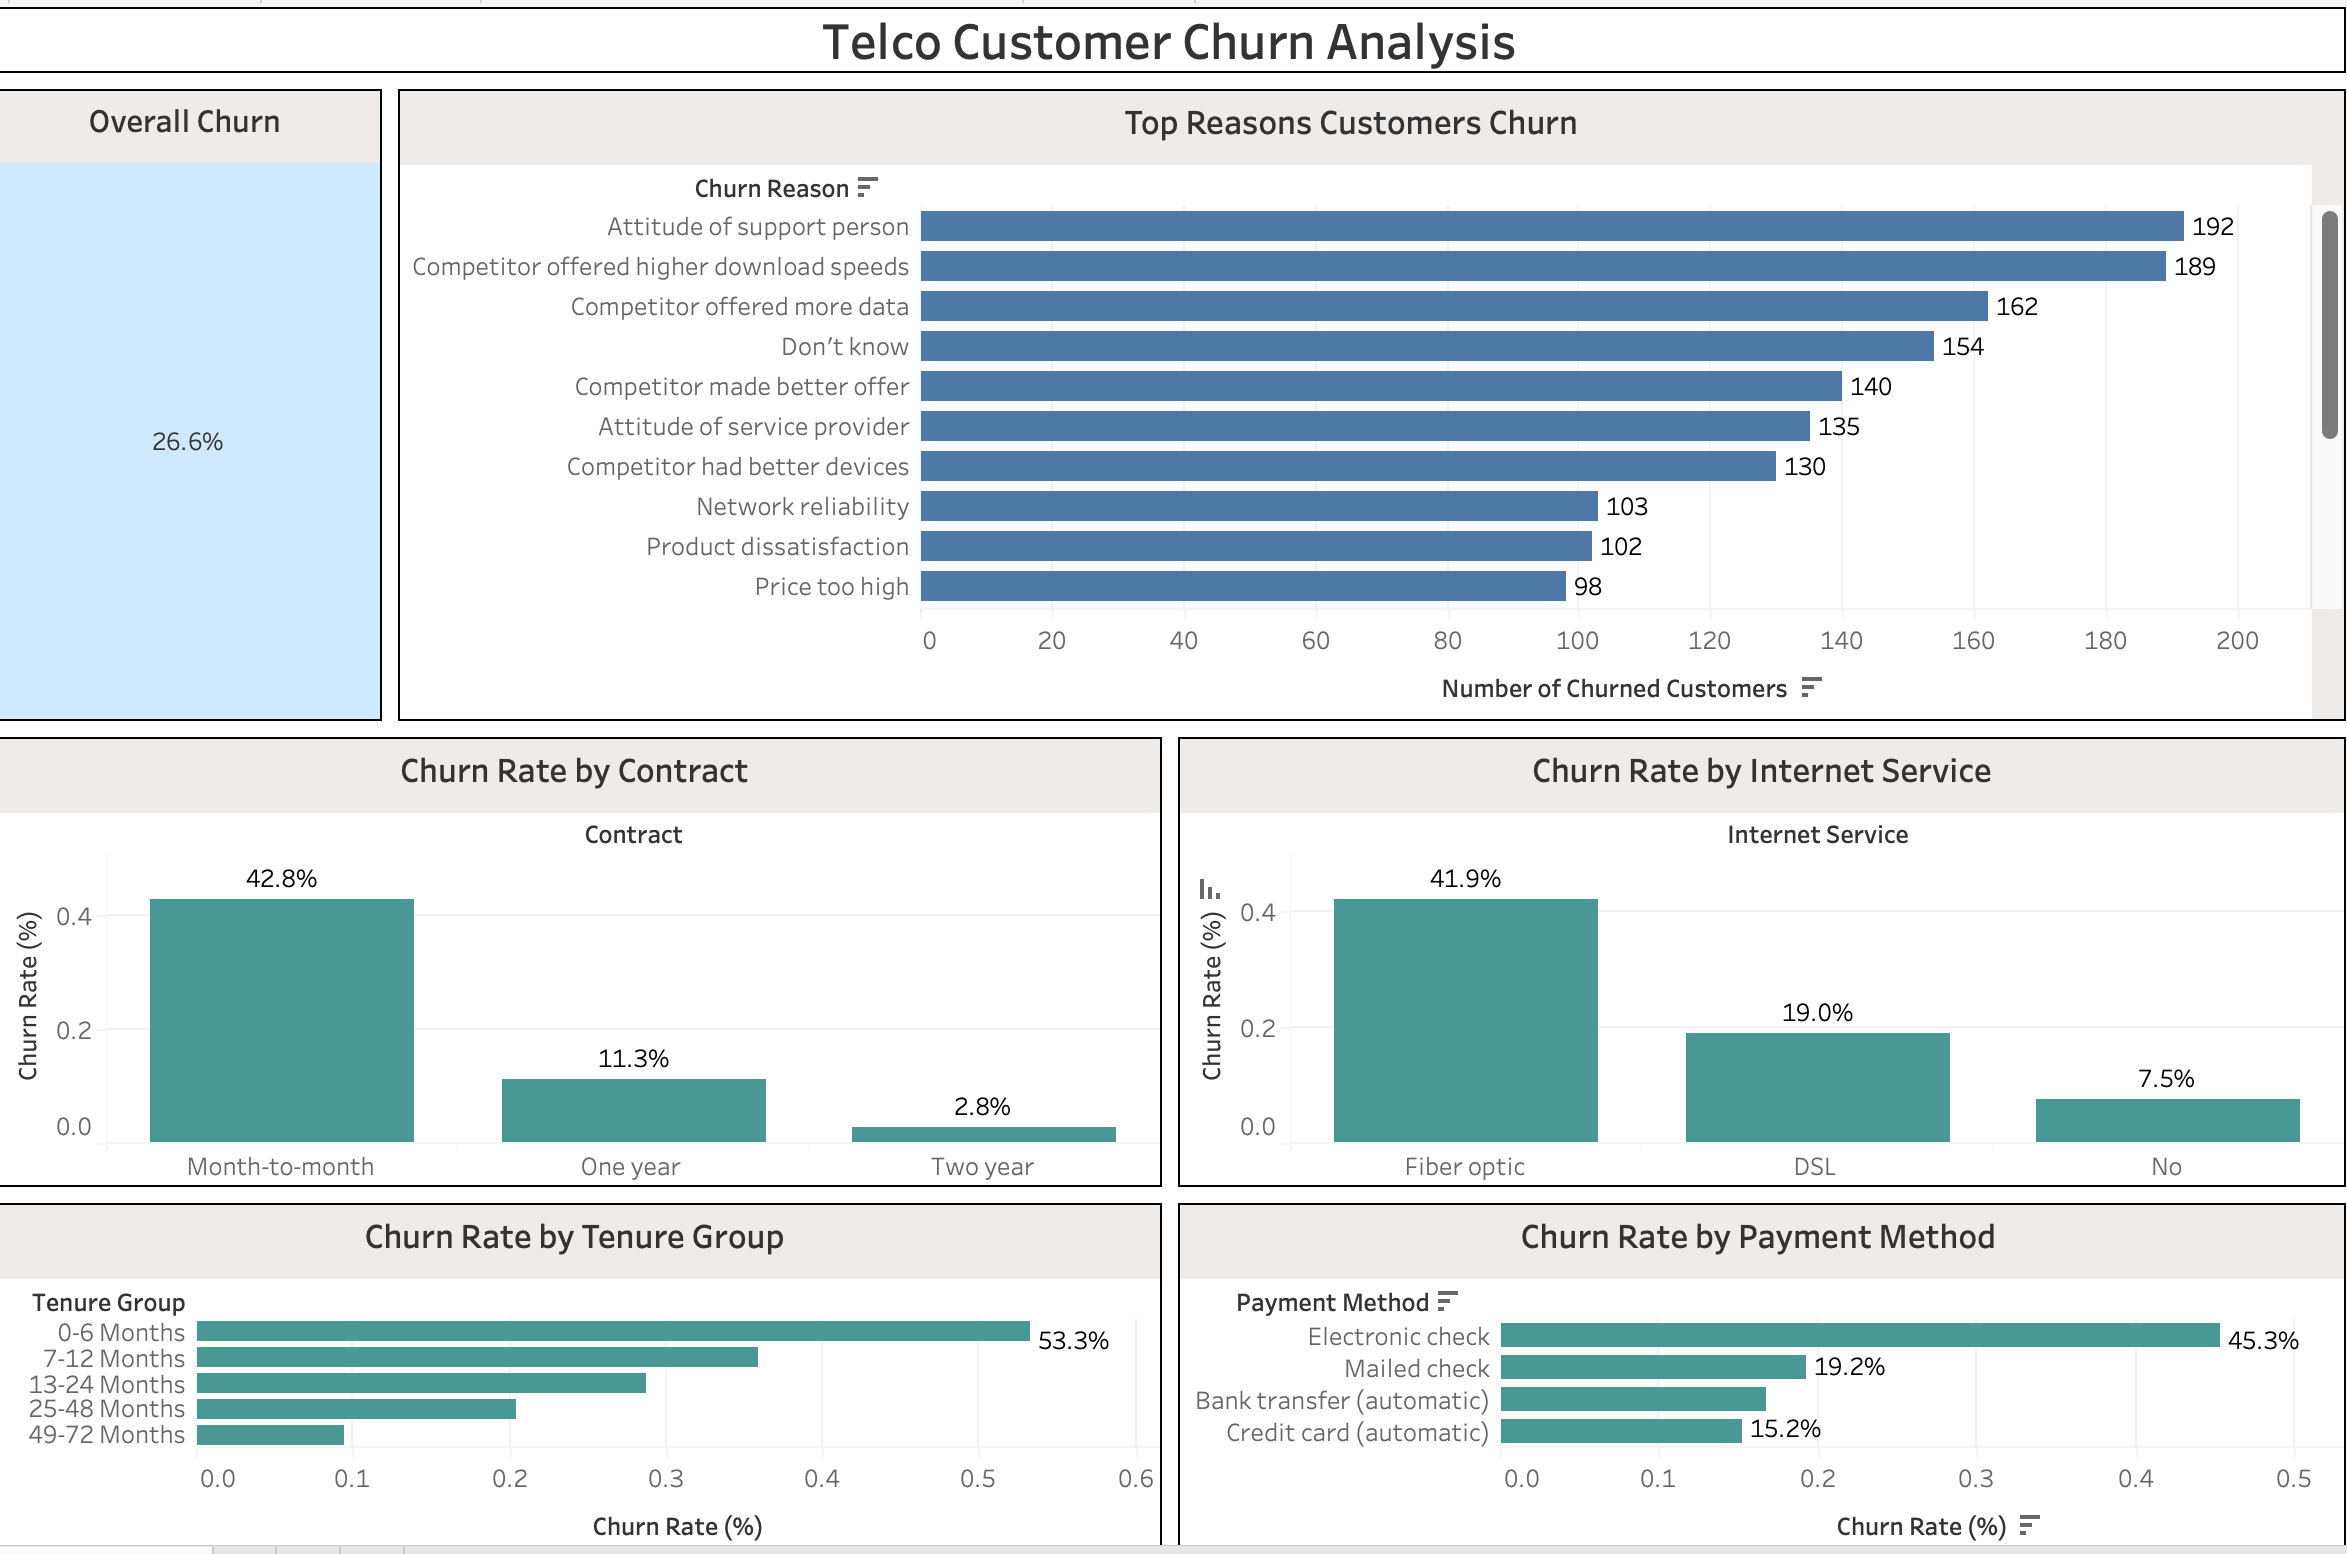

What the dashboard file says about the page in this screenshot:
{"tool":"tableau","page":{"name":"Telco Customer Churn Analysis","canvas":[1200,800],"ordinal":0},"visuals":[{"type":"title","box":[8,8,1184,41]},{"type":"worksheet","title":"Overall Churn Rate","mark":"Automatic","box":[8,49,202,324.1]},{"type":"worksheet","title":"Top Reasons Customers Churn","mark":"Bar","rows":["Churn Reason"],"cols":["Churn Value"],"box":[210,49,982,324.1]},{"type":"worksheet","title":"Churn Rate by Contract","mark":"Bar","rows":["Churn Value"],"cols":["Contract"],"box":[8,373.1,592,233.1]},{"type":"worksheet","title":"Churn Rate by Internet Service","mark":"Automatic","rows":["Churn Value"],"cols":["Internet Service"],"box":[600,373.1,592,233.1]},{"type":"worksheet","title":"Churn Rate by Tenure Group","mark":"Bar","rows":["Tenure Group"],"cols":["Churn Value"],"box":[8,606.2,592,185.8]},{"type":"worksheet","title":"Churn Rate by Payment Method","mark":"Automatic","rows":["Payment Method"],"cols":["Churn Value"],"box":[600,606.2,592,185.8]}]}

Visuals, with their boxes in screenshot pixels (x1, y1, x2, y2), scaled from the page's 1200x800 canvas onto the 2347x1554 screenshot:
title: pyautogui.locateOnScreen(16, 16, 2331, 95)
"Overall Churn Rate" worksheet: pyautogui.locateOnScreen(16, 95, 411, 725)
"Top Reasons Customers Churn" worksheet (Bar marks): pyautogui.locateOnScreen(411, 95, 2331, 725)
"Churn Rate by Contract" worksheet (Bar marks): pyautogui.locateOnScreen(16, 725, 1174, 1178)
"Churn Rate by Internet Service" worksheet: pyautogui.locateOnScreen(1174, 725, 2331, 1178)
"Churn Rate by Tenure Group" worksheet (Bar marks): pyautogui.locateOnScreen(16, 1178, 1174, 1538)
"Churn Rate by Payment Method" worksheet: pyautogui.locateOnScreen(1174, 1178, 2331, 1538)
